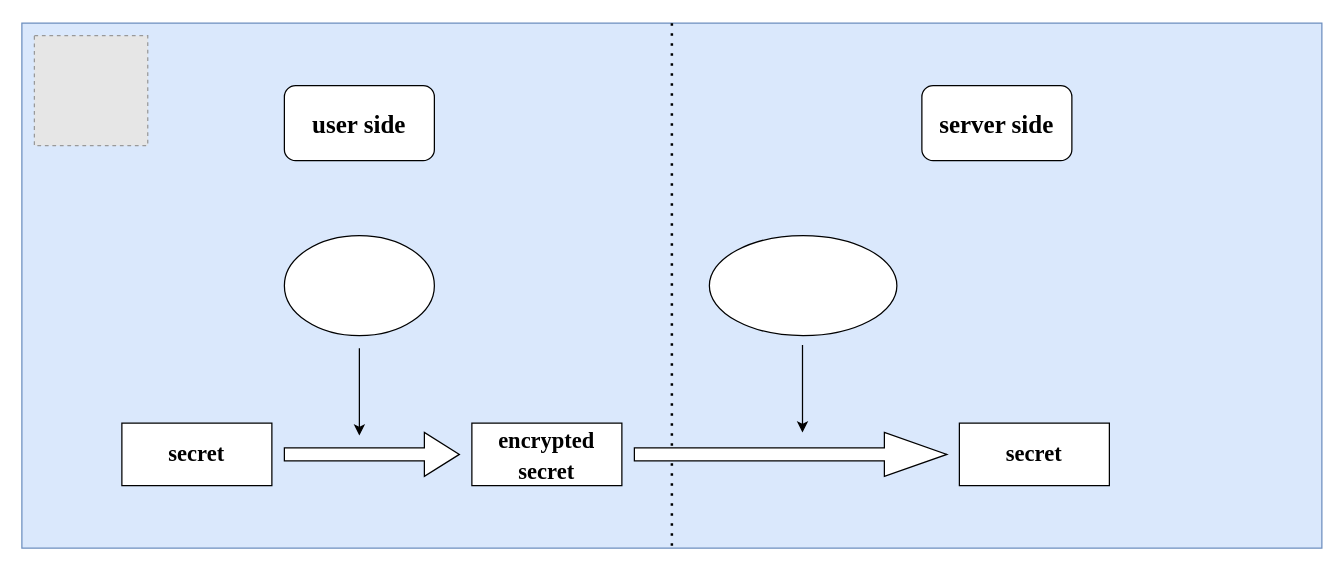
Image size: 1344x571. Some labels were removed from this diagram. Grey dashed boxes stand in for pictures. The shapes that lost their labels are listed below. From the top down, each one's centre as x and y in pixels, then its label:
point 358,285: sops encrypt
point 802,285: secret-decrypt webhook
